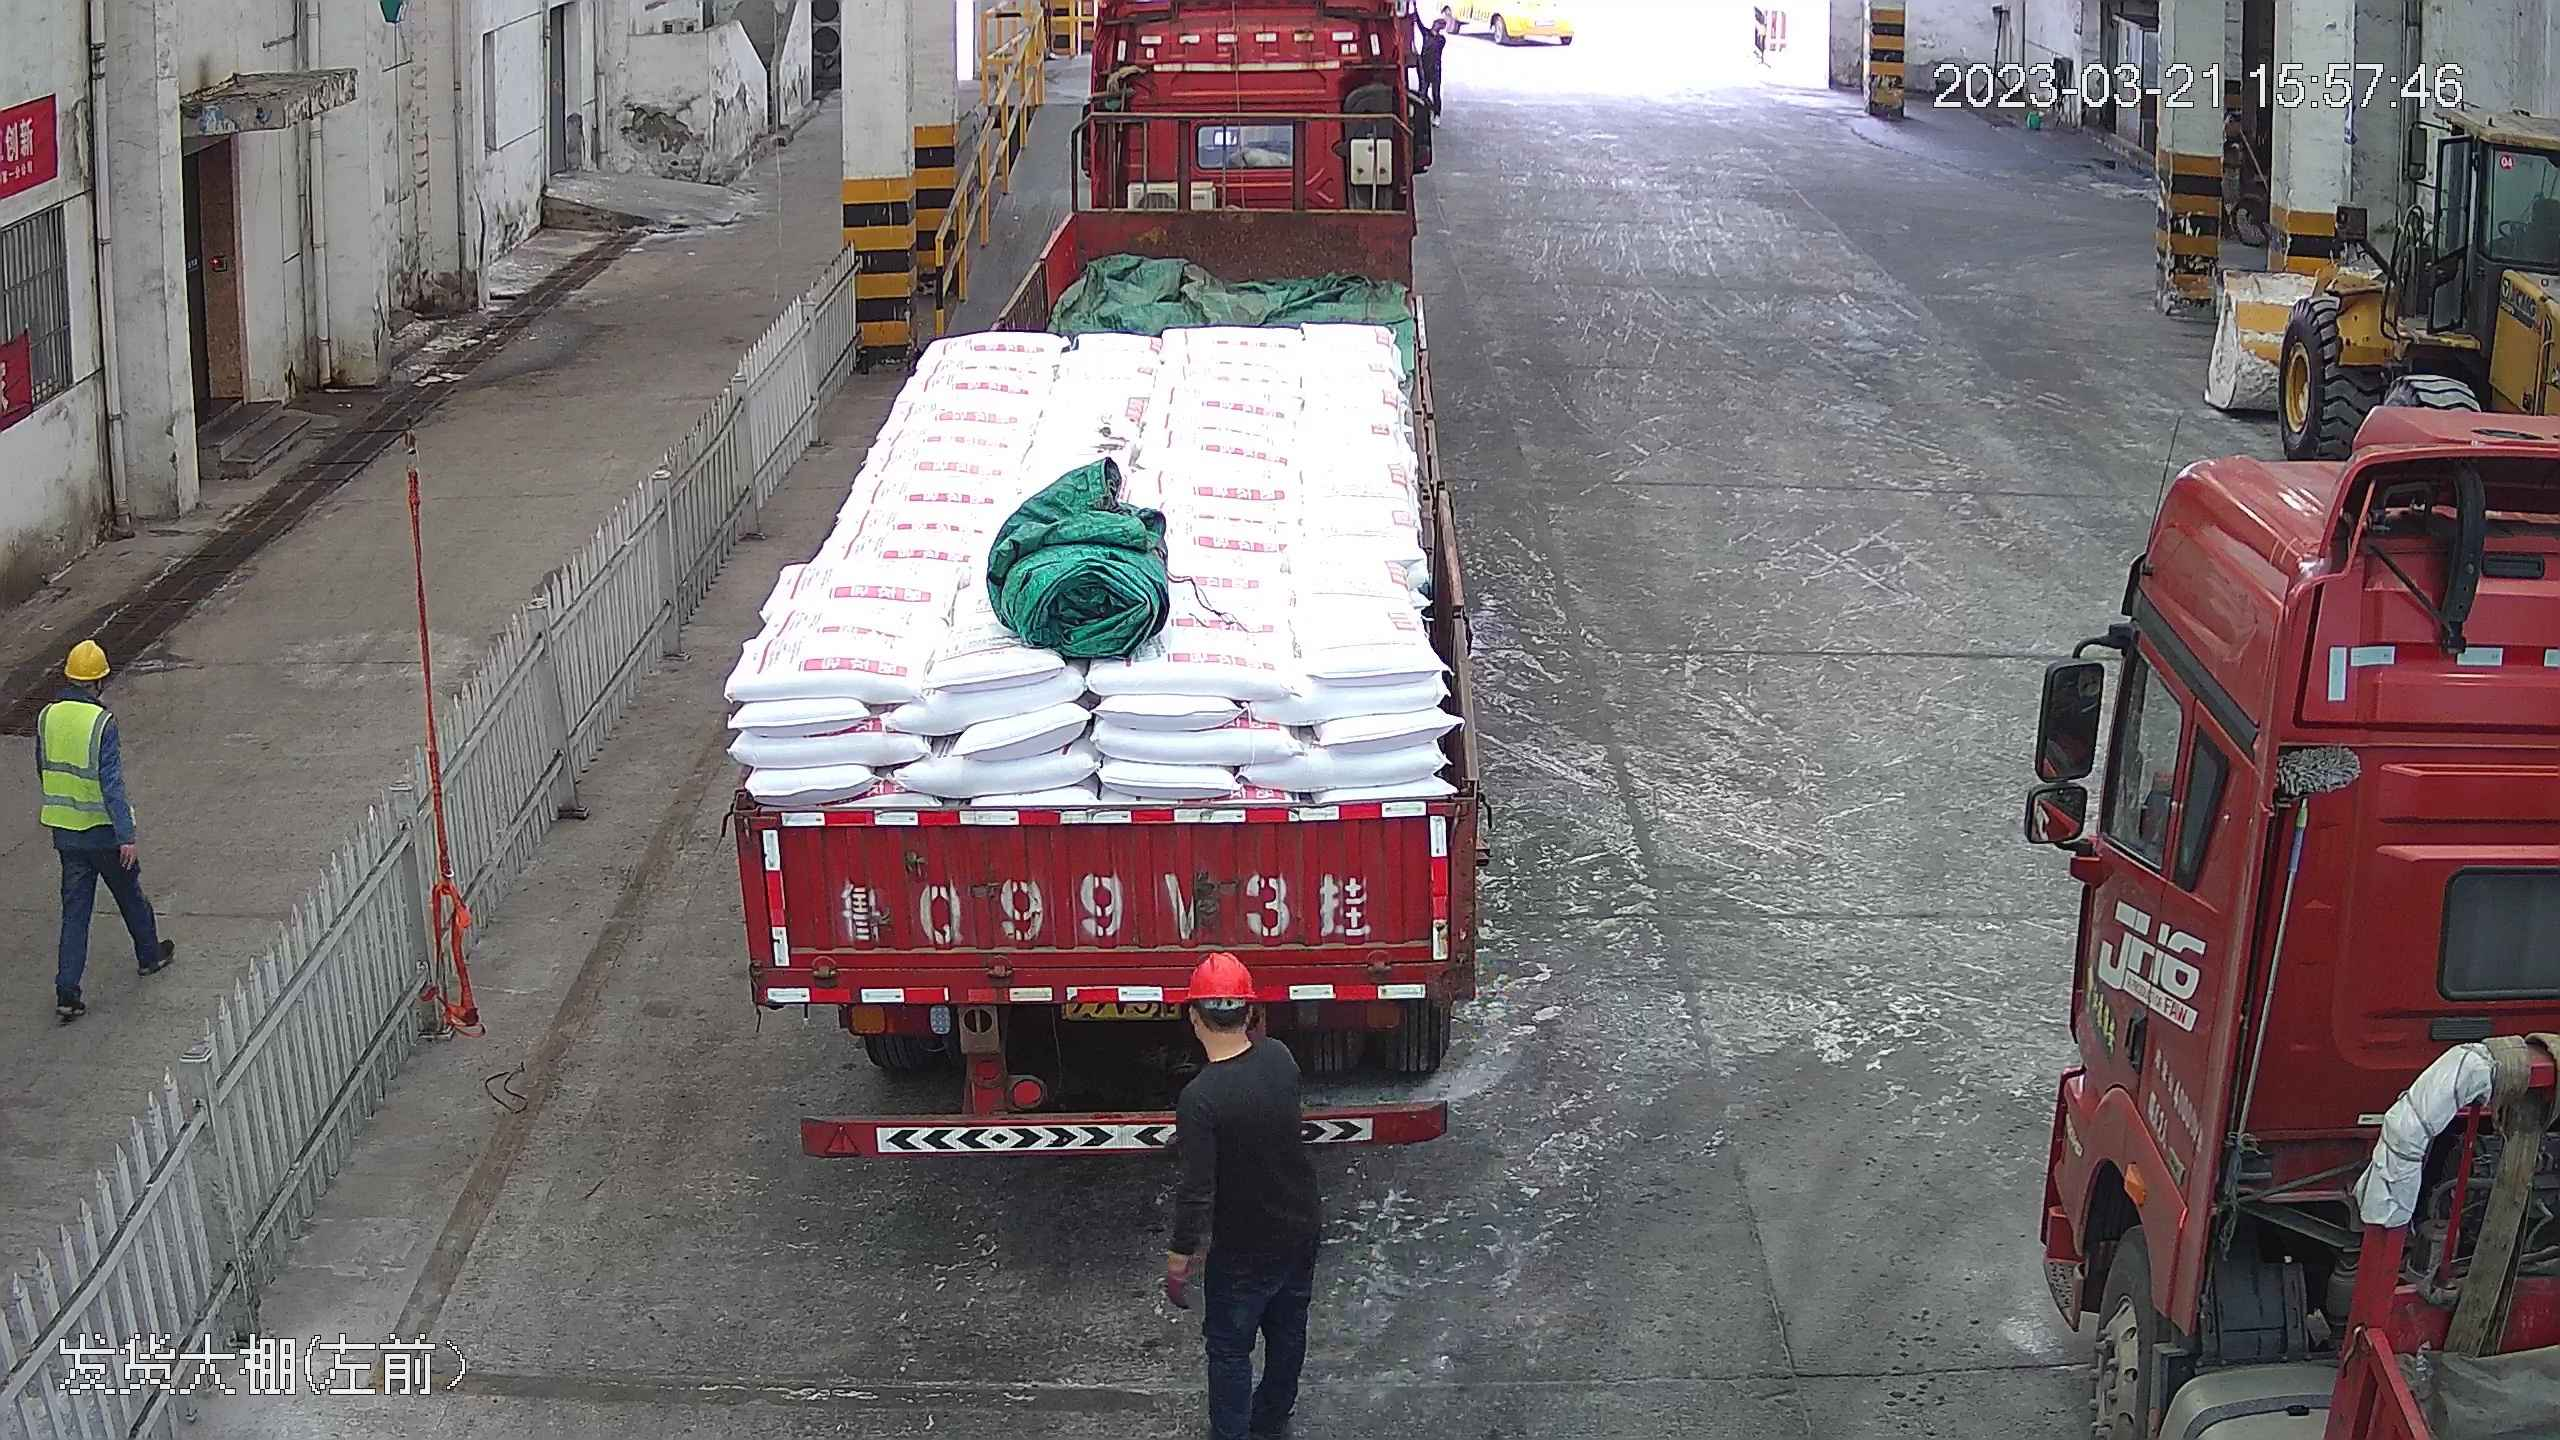head: (1165, 951, 1304, 1115), (35, 638, 123, 758)
helmet: (1187, 950, 1259, 1002), (61, 636, 113, 681)
people: (1168, 958, 1327, 1439), (28, 629, 178, 1020)
truck: (712, 0, 1497, 1175), (2023, 381, 2560, 1440)
